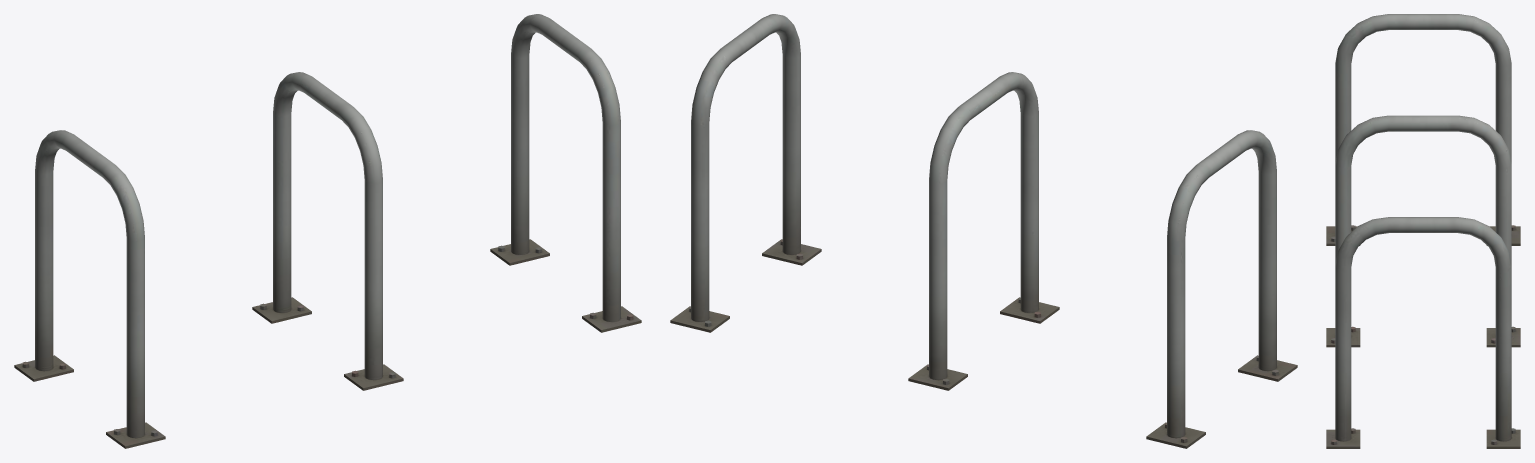
Rendered from bikeRack-v2.glb.
3 renders of one model, left to right at view 1: azimuth 30°, elevation 25°; view 2: azimuth 150°, elevation 25°; view 3: azimuth 270°, elevation 25°, orthographic. The views are drawn at different scales.
Parts seen in each view (by area): view 1: bikeRack; view 2: bikeRack; view 3: bikeRack.
Part boxes in pixels (x1=…): bikeRack: x1=14, y1=14, x2=641, y2=448; bikeRack: x1=670, y1=14, x2=1297, y2=448; bikeRack: x1=1326, y1=14, x2=1520, y2=448.
Size of the model in its own units: 1.95 by 0.9202 by 0.727.
Materials: 1 (1 with a texture image).
